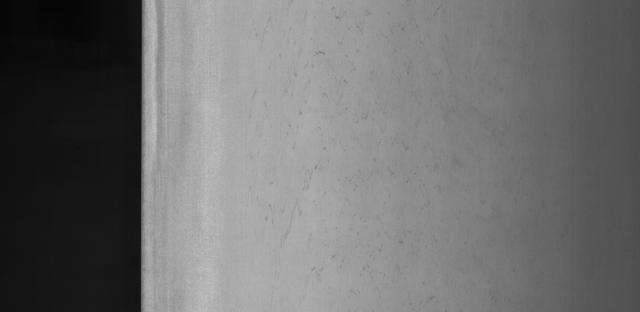silk_spot: (237, 0, 438, 252)
